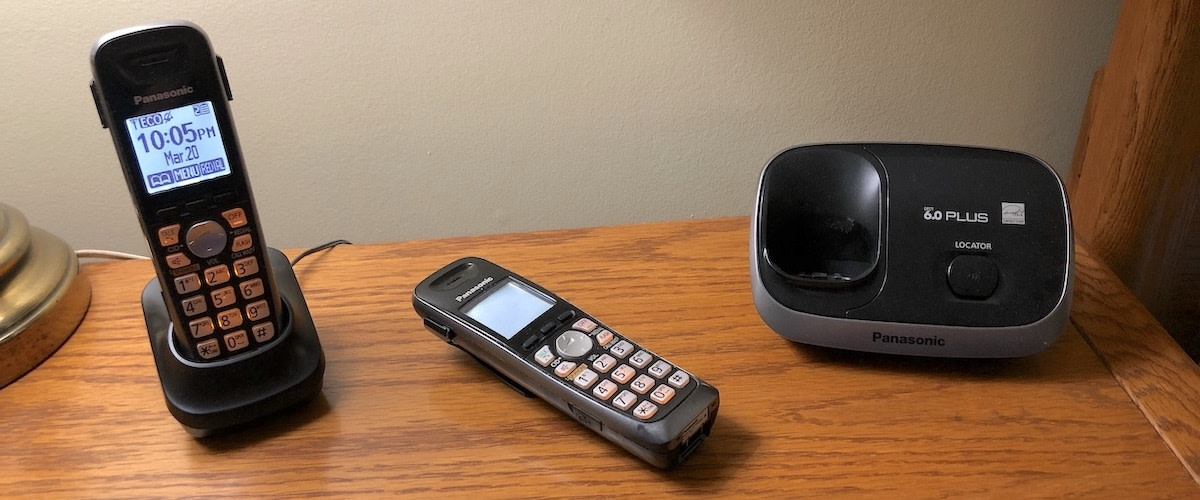telephone: (406, 255, 723, 475), (84, 26, 287, 368)
